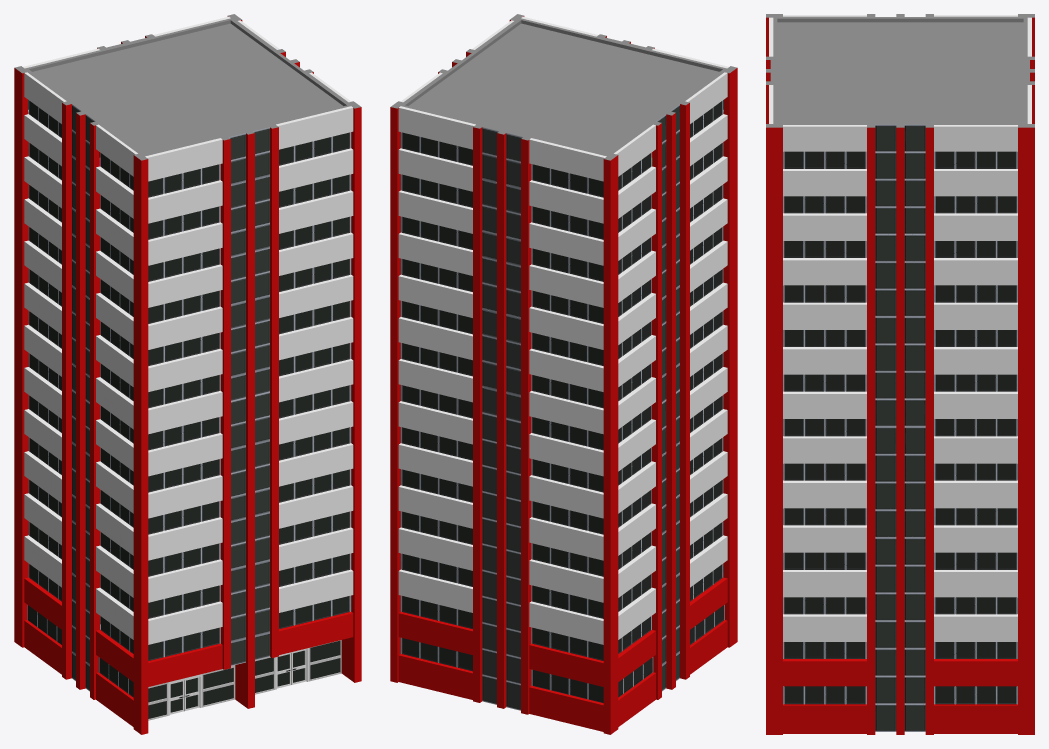
3 views of the same model, side by side, from view 1: azimuth 30°, elevation 25°; view 2: azimuth 150°, elevation 25°; view 3: azimuth 270°, elevation 25° (orthographic). The views are drawn at different scales.
Parts seen in each view (by area): view 1: BB-03; view 2: BB-03; view 3: BB-03.
Part boxes in pixels (x1,y1,x2,y2): BB-03: (14, 14, 361, 734); BB-03: (390, 14, 737, 734); BB-03: (766, 14, 1034, 734).
Size of what is drawn, in the model's own units: 16.4 by 40.9 by 16.4.
